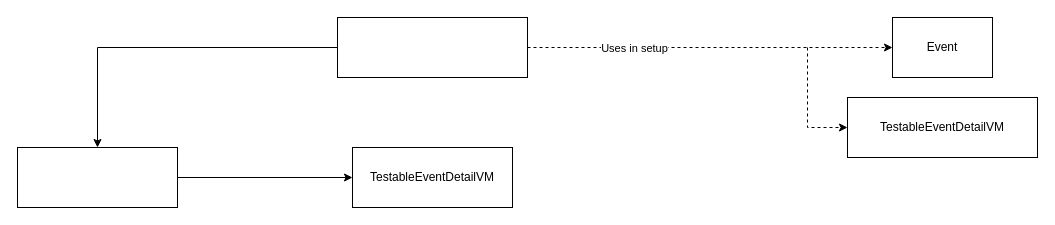
This 1055x225 diagram has some shape labels left out. The shapes that lost their labels are listed below. From the top down, each one's centre as x and y in pixels, then its label:
At (x=432, y=47): "EventDetailVCSnapshotTests".
At (x=97, y=177): "TestableEventDetailVC".
